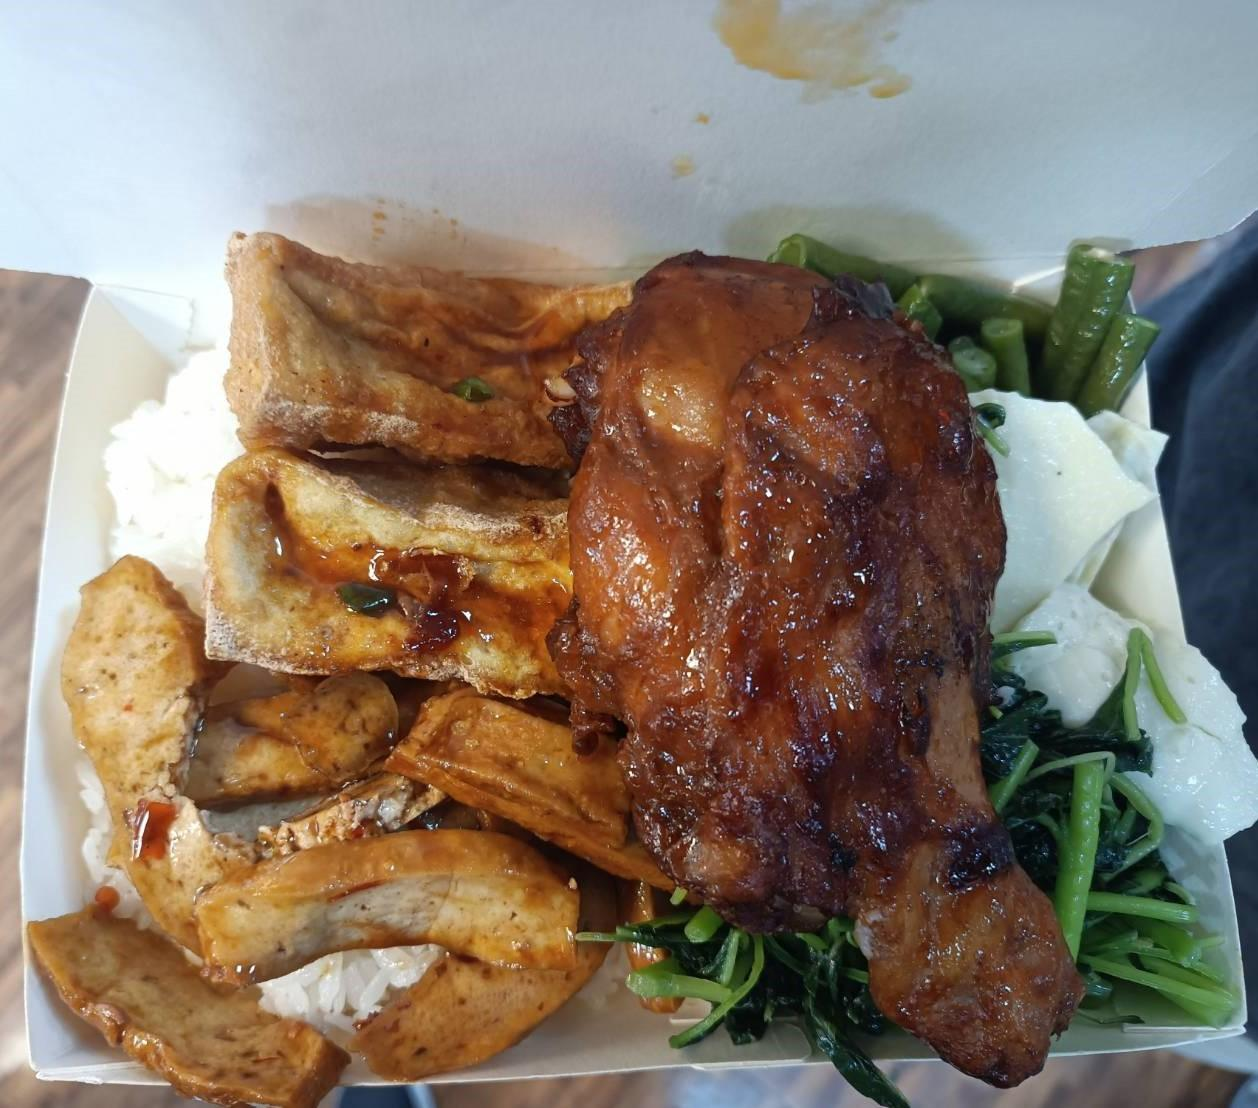big grilled chicken leg: (5, 246, 1258, 1099)
braised fish fillet: (46, 588, 647, 1073), (200, 224, 629, 702), (665, 738, 1198, 1057), (985, 378, 1258, 835), (801, 238, 1140, 396)
